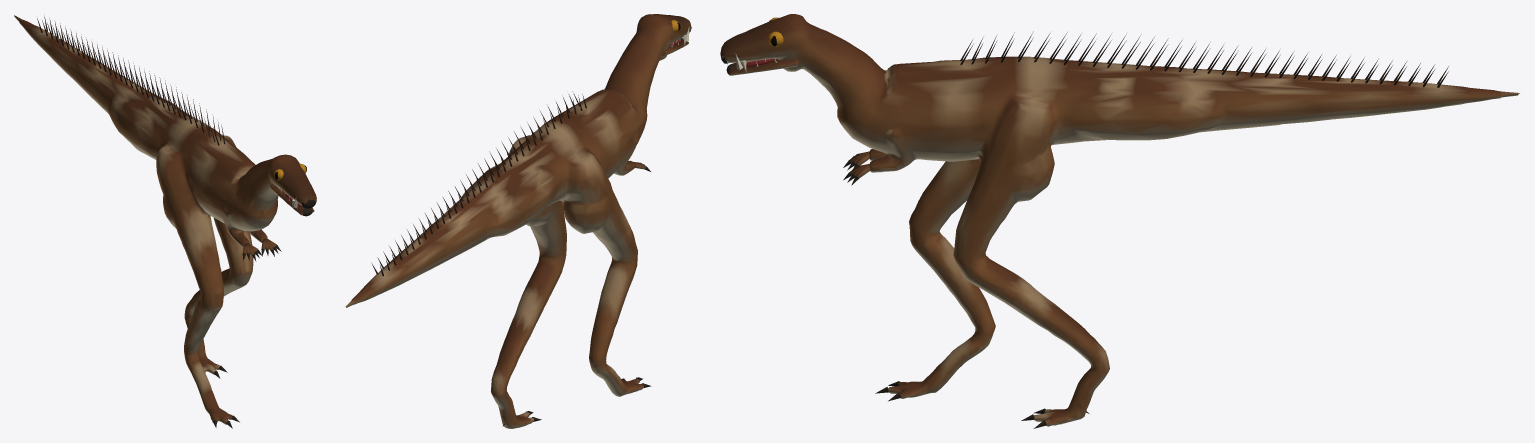
File: Heterodontosaurus.fbx
3 renders of one model, left to right at view 1: azimuth 30°, elevation 25°; view 2: azimuth 150°, elevation 25°; view 3: azimuth 270°, elevation 25°, orthographic. The views are drawn at different scales.
Parts seen in each view (by area): view 1: Heterodontosaurus; view 2: Heterodontosaurus; view 3: Heterodontosaurus.
Boxes of the visible parts, x1=… form: Heterodontosaurus: x1=14, y1=15, x2=316, y2=428; Heterodontosaurus: x1=345, y1=14, x2=691, y2=428; Heterodontosaurus: x1=720, y1=14, x2=1519, y2=428.
Size of the model in its own units: 0.3664 by 1.31 by 2.42.
